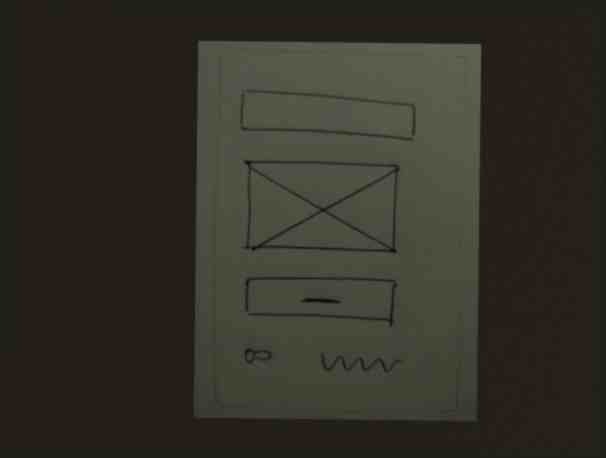button: (241, 270, 401, 331)
image: (237, 155, 403, 261)
switch: (235, 341, 280, 371)
text: (309, 347, 407, 380)
text_input: (235, 84, 420, 147)
